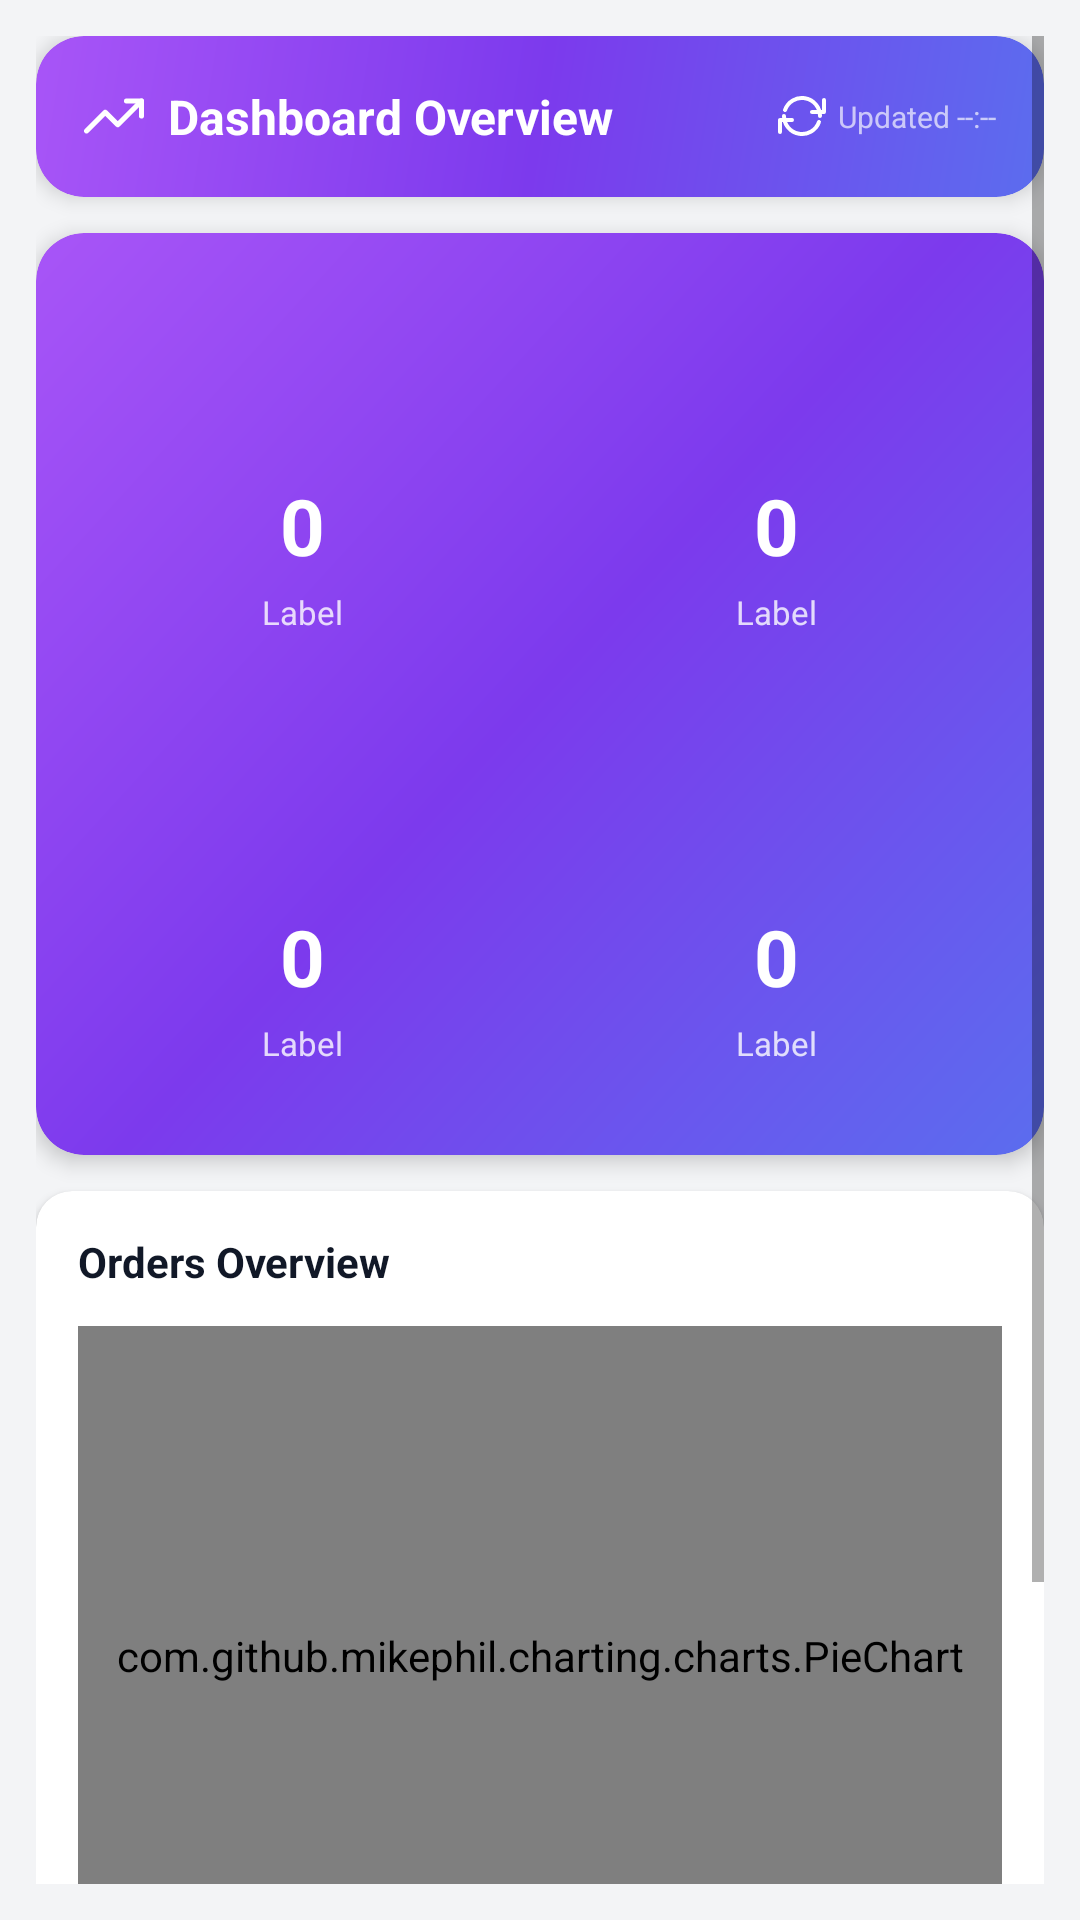

Point at icon controls on the screen. Image size 1080 × 1920, points as (x=x, y=y).
refresh: (x=802, y=116)
trending up: (x=114, y=116)
